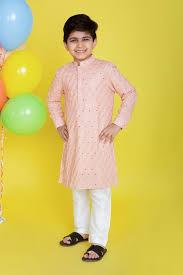Human: (44, 12, 135, 268)
